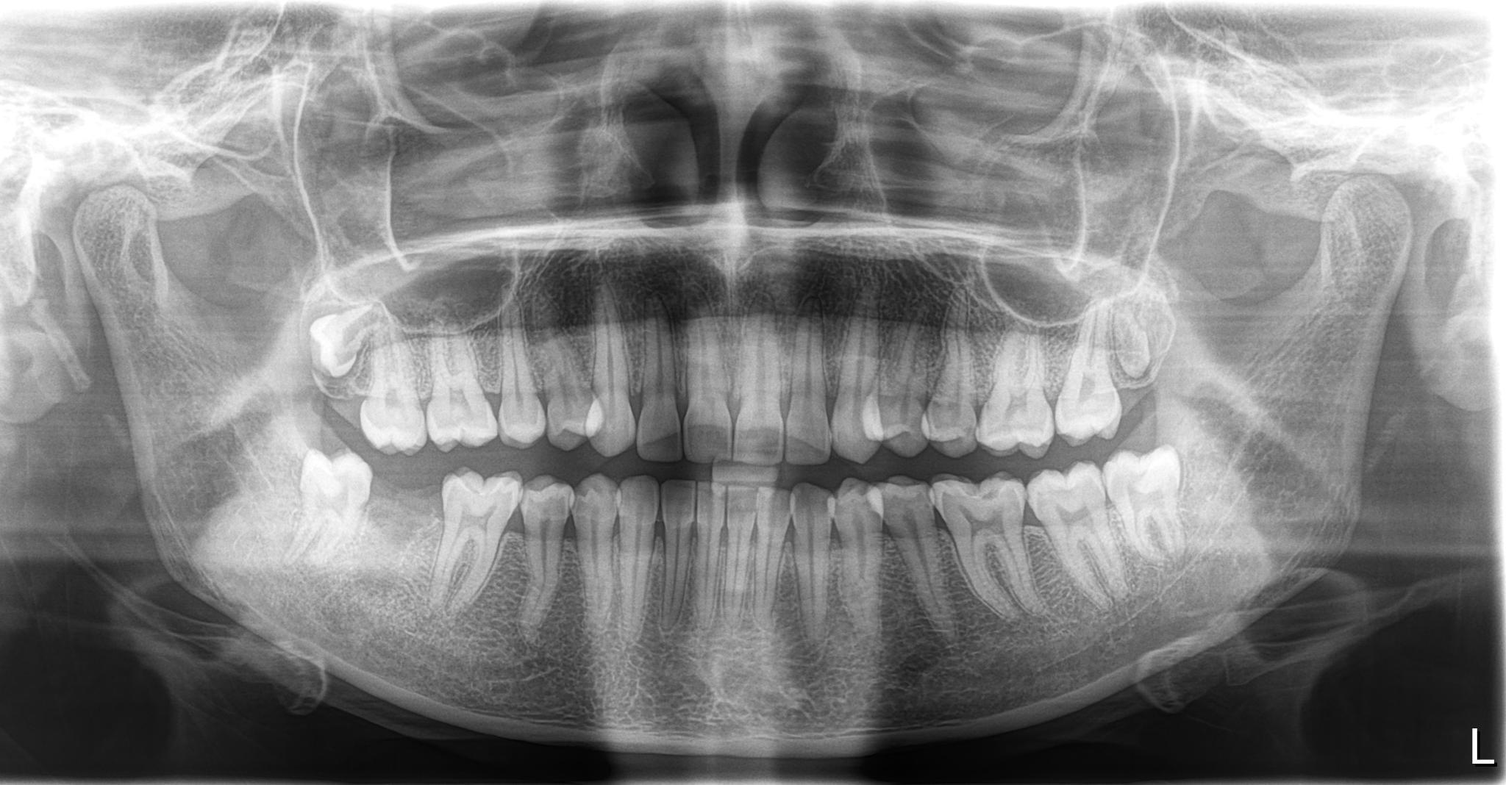Impacted Third Molar: (1107, 307, 1183, 387), (301, 307, 368, 384)
Missing Tooth: (364, 478, 442, 582)
